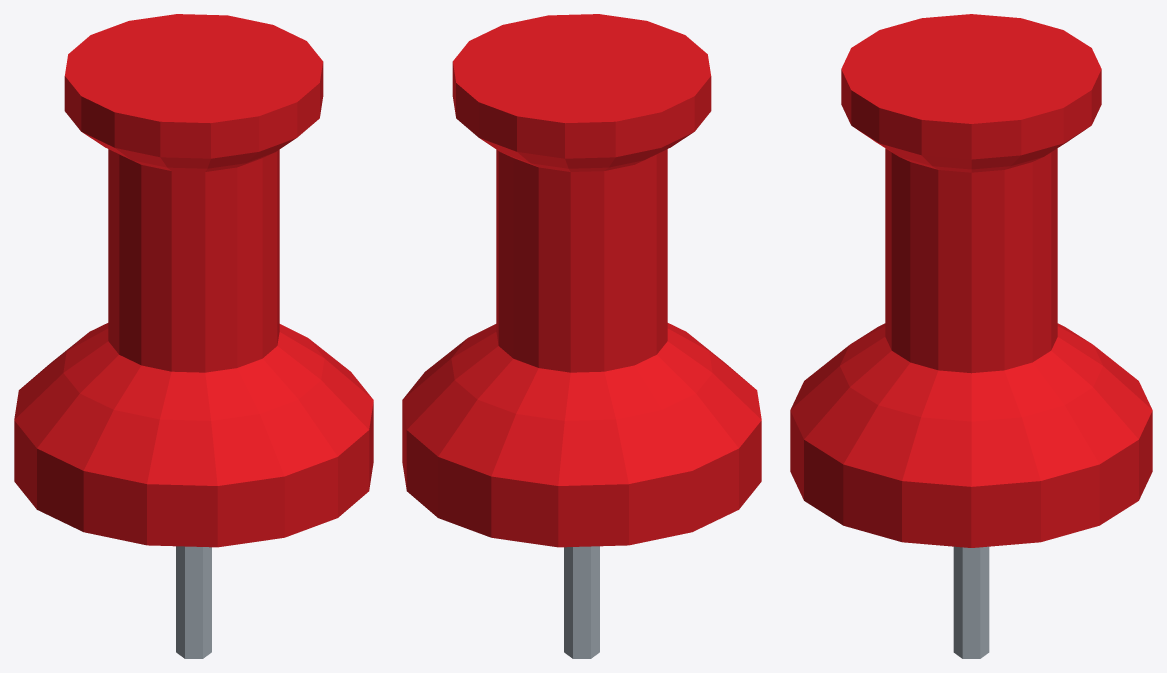
Rendered from Thumbtack (grappiing hook).fbx.
3 views of the same model, side by side, from view 1: azimuth 30°, elevation 25°; view 2: azimuth 150°, elevation 25°; view 3: azimuth 270°, elevation 25° (orthographic).
Visible parts, largest first — view 1: Thumbtack; view 2: Thumbtack; view 3: Thumbtack.
Boxes of the visible parts, x1=… form: Thumbtack: x1=14, y1=14, x2=373, y2=658; Thumbtack: x1=402, y1=14, x2=761, y2=658; Thumbtack: x1=790, y1=14, x2=1152, y2=658.
Bounding box in the file's own units: 118 × 210 × 118.
